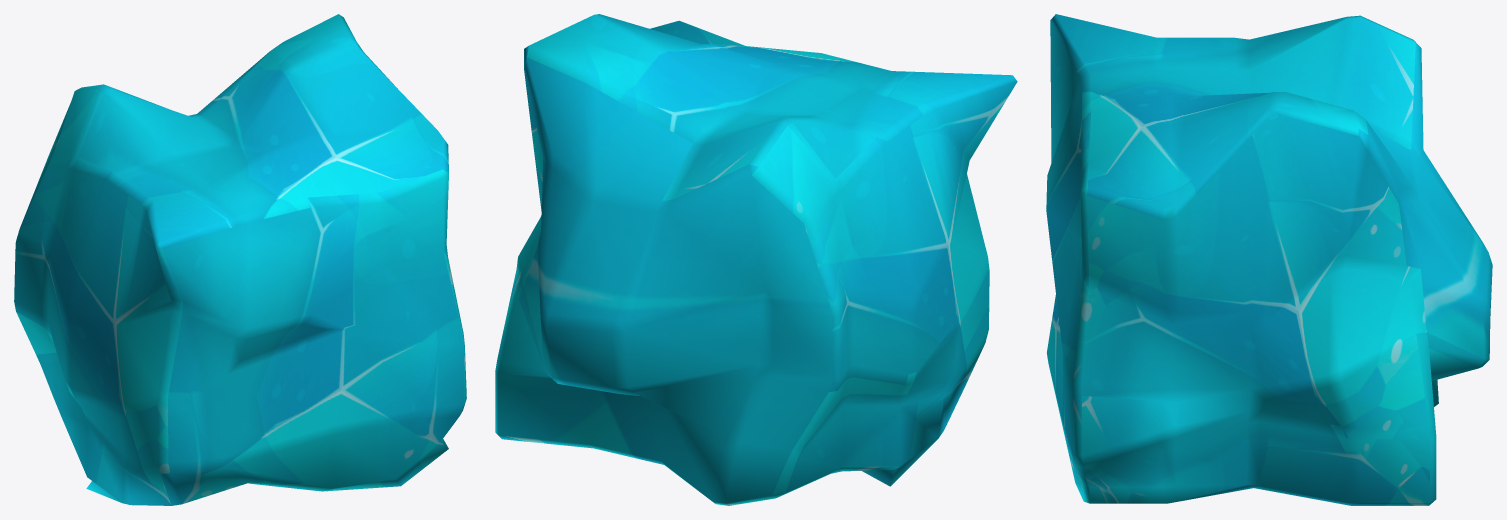
Rendered from hielo2.fbx.
3 renders of one model, left to right at view 1: azimuth 30°, elevation 25°; view 2: azimuth 150°, elevation 25°; view 3: azimuth 270°, elevation 25°, orthographic. The views are drawn at different scales.
Visible parts, largest first — view 1: Cube; view 2: Cube; view 3: Cube.
Boxes of the visible parts, box(x1,y1,x2,y2) form: Cube: box(14, 14, 466, 505); Cube: box(495, 14, 1017, 505); Cube: box(1046, 14, 1492, 505).
Bounding box in the file's own units: 6.06 × 6.43 × 6.17.
